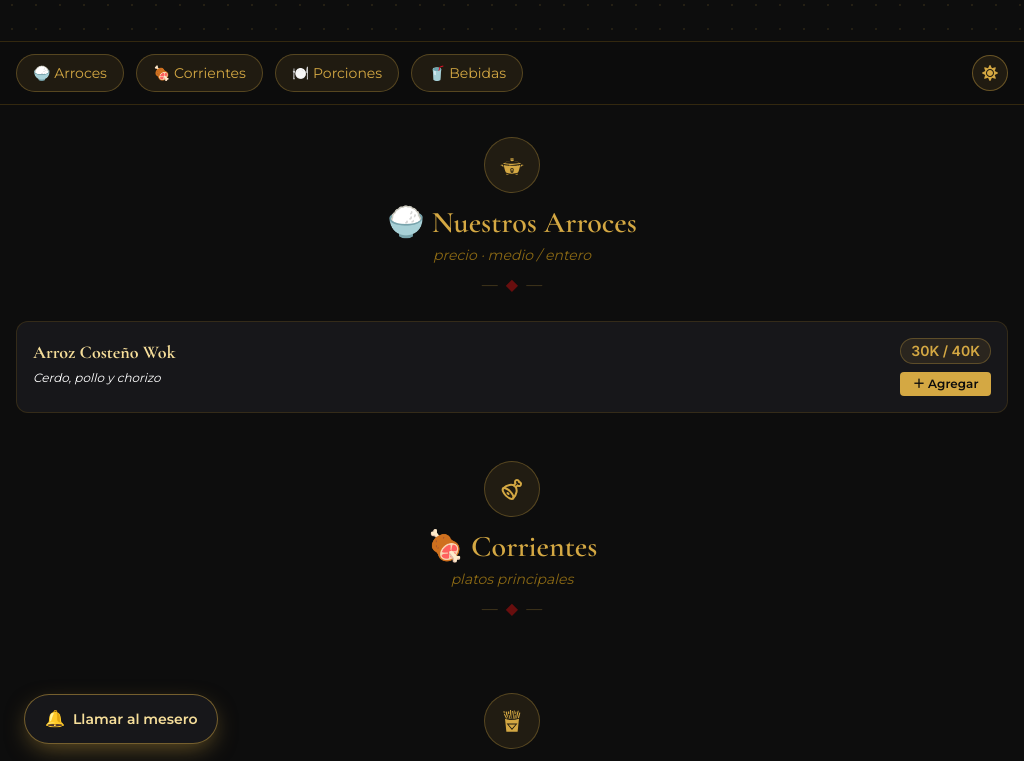
Test: agrega items al carrito y abre el checkout
(page scrolled)
Step 1. Click the button "＋ Agregar" → [946, 384], box x1=900 y1=372 x2=991 y2=396
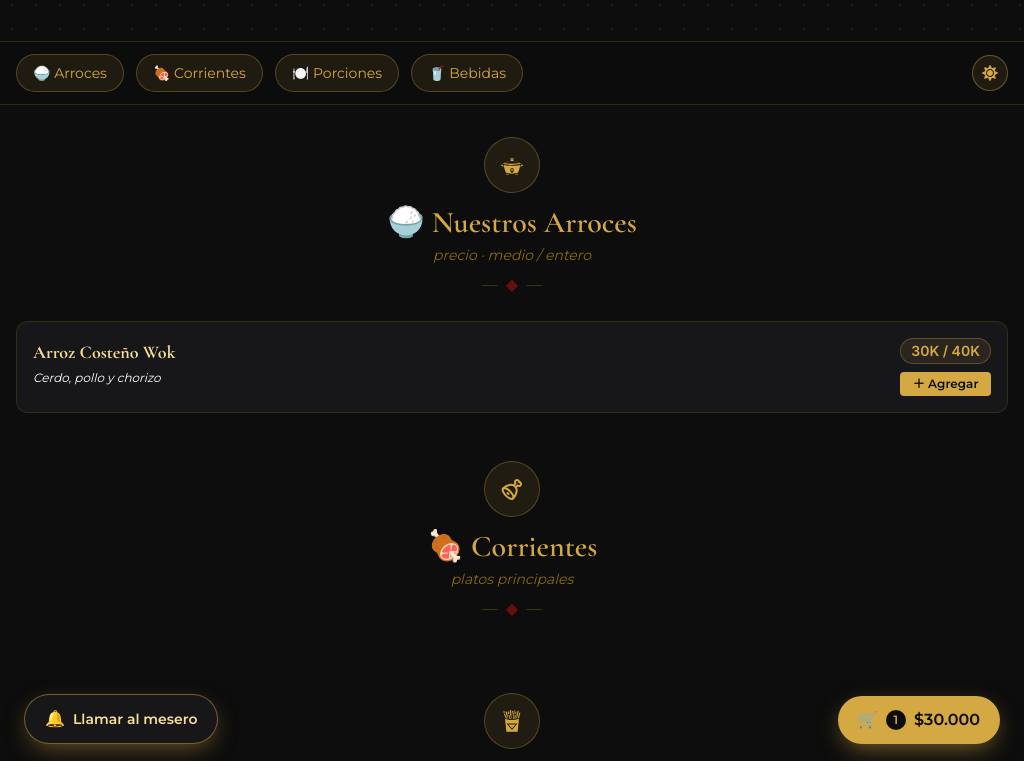
Step 2. Click the button "＋ Agregar" → [946, 384], box x1=900 y1=372 x2=991 y2=396
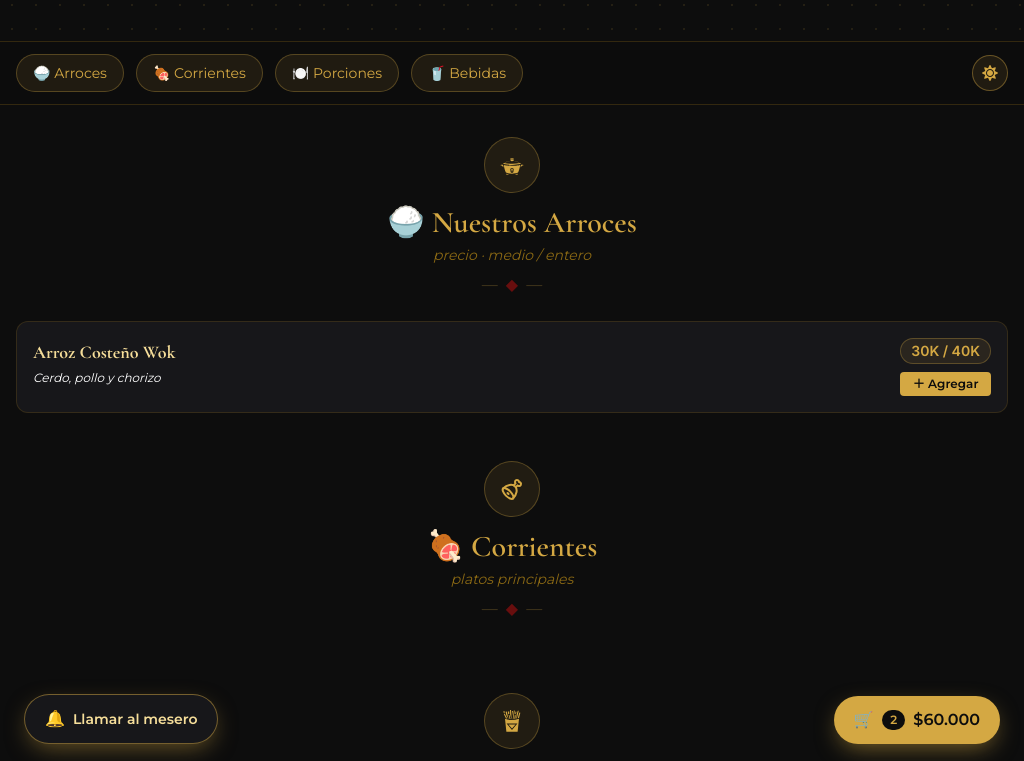
Step 3. Click the button "🛒 2 $60.000" → [917, 720], box x1=834 y1=696 x2=1000 y2=744
(page scrolled)
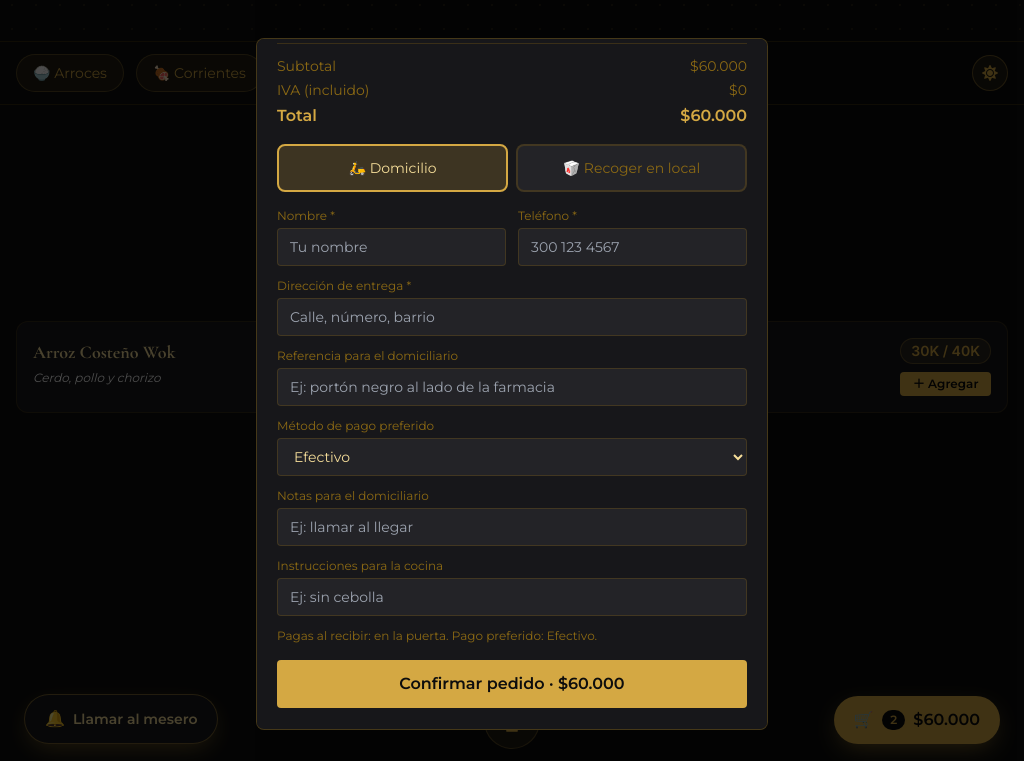
Now the button "Confirmar pedido · $60.000" is shown, box x1=277 y1=660 x2=747 y2=708
